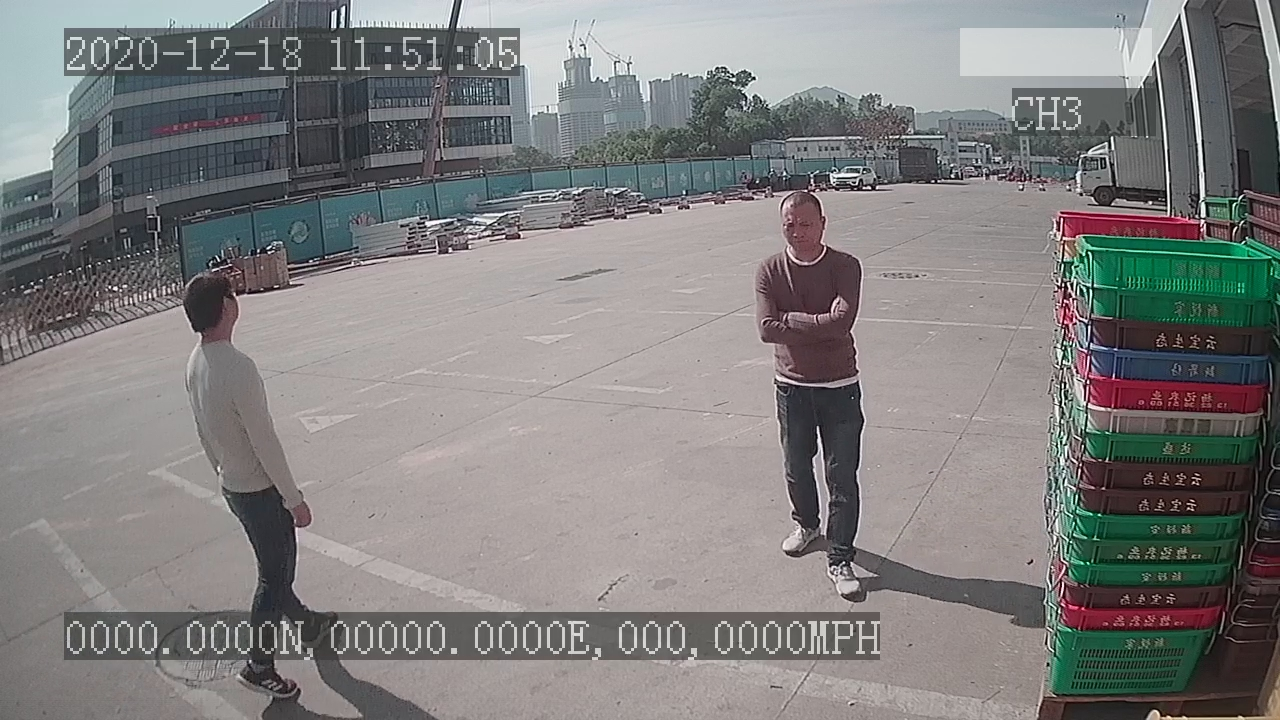person: (747, 186, 876, 608)
